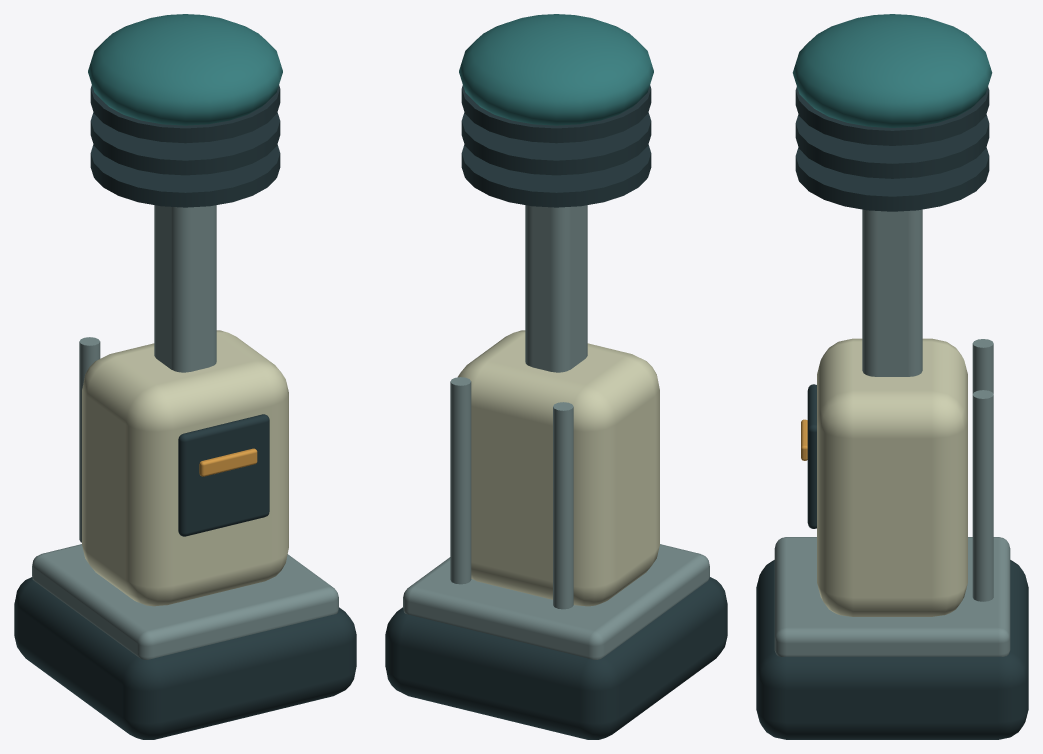
Rendered from power-junction.glb.
The picture shows the model from 3 angles, left to right: view 1: azimuth 30°, elevation 25°; view 2: azimuth 150°, elevation 25°; view 3: azimuth 270°, elevation 25°; orthographic projection. The views are drawn at different scales.
Visible parts, largest first — view 1: Batched static factory; view 2: Batched static factory; view 3: Batched static factory.
Boxes of the visible parts, <box> form: Batched static factory: <box>14,14,356,739</box>; Batched static factory: <box>385,14,727,739</box>; Batched static factory: <box>756,14,1028,739</box>.
Size of the model in its own units: 0.9 by 2.41 by 0.9.
